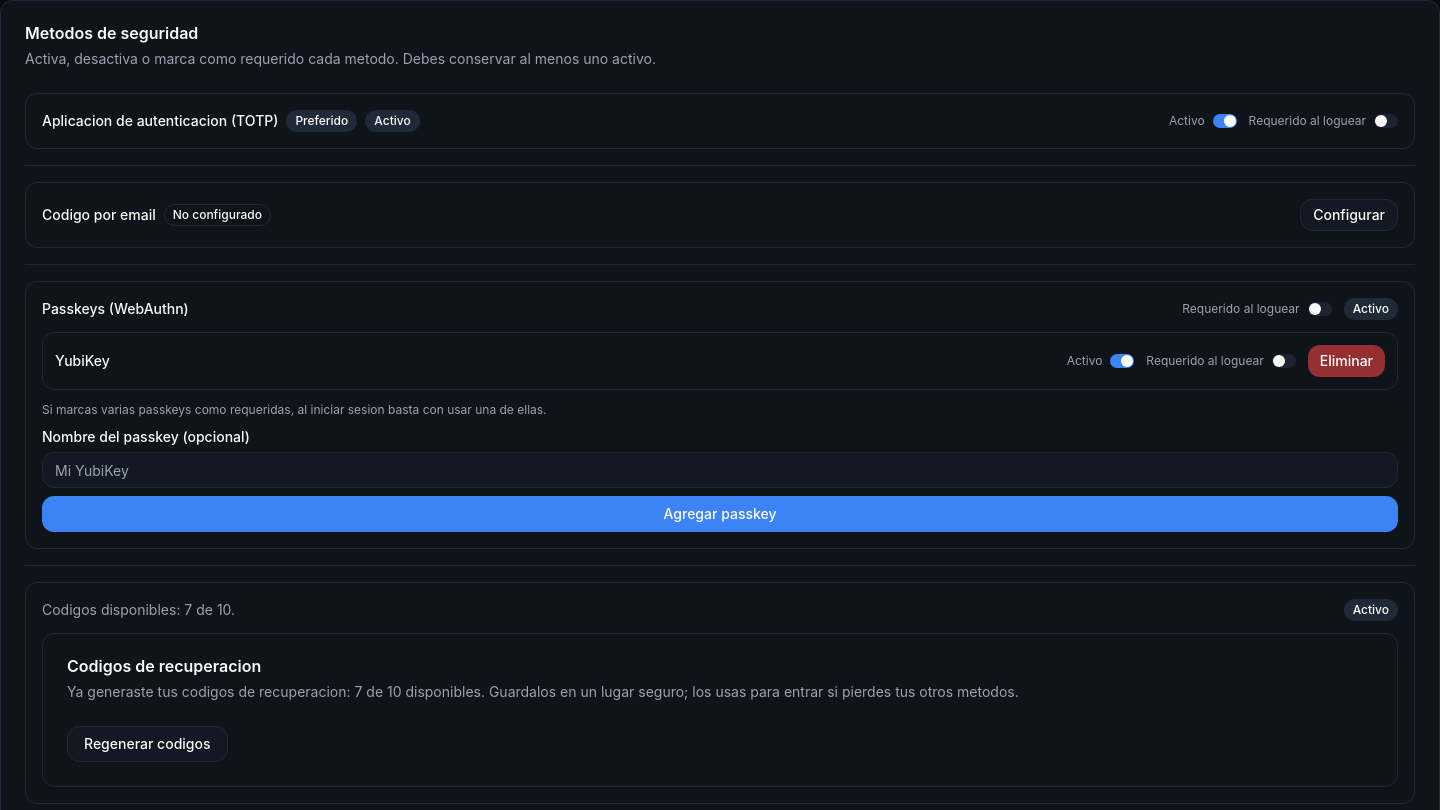
it: SecurityOverviewPanel › Given email_code no configurado When clic Configurar Then abre el dialog de setup
Click the button "Configurar" at {"x": 1349, "y": 215}, box [1300,199,1398,231]
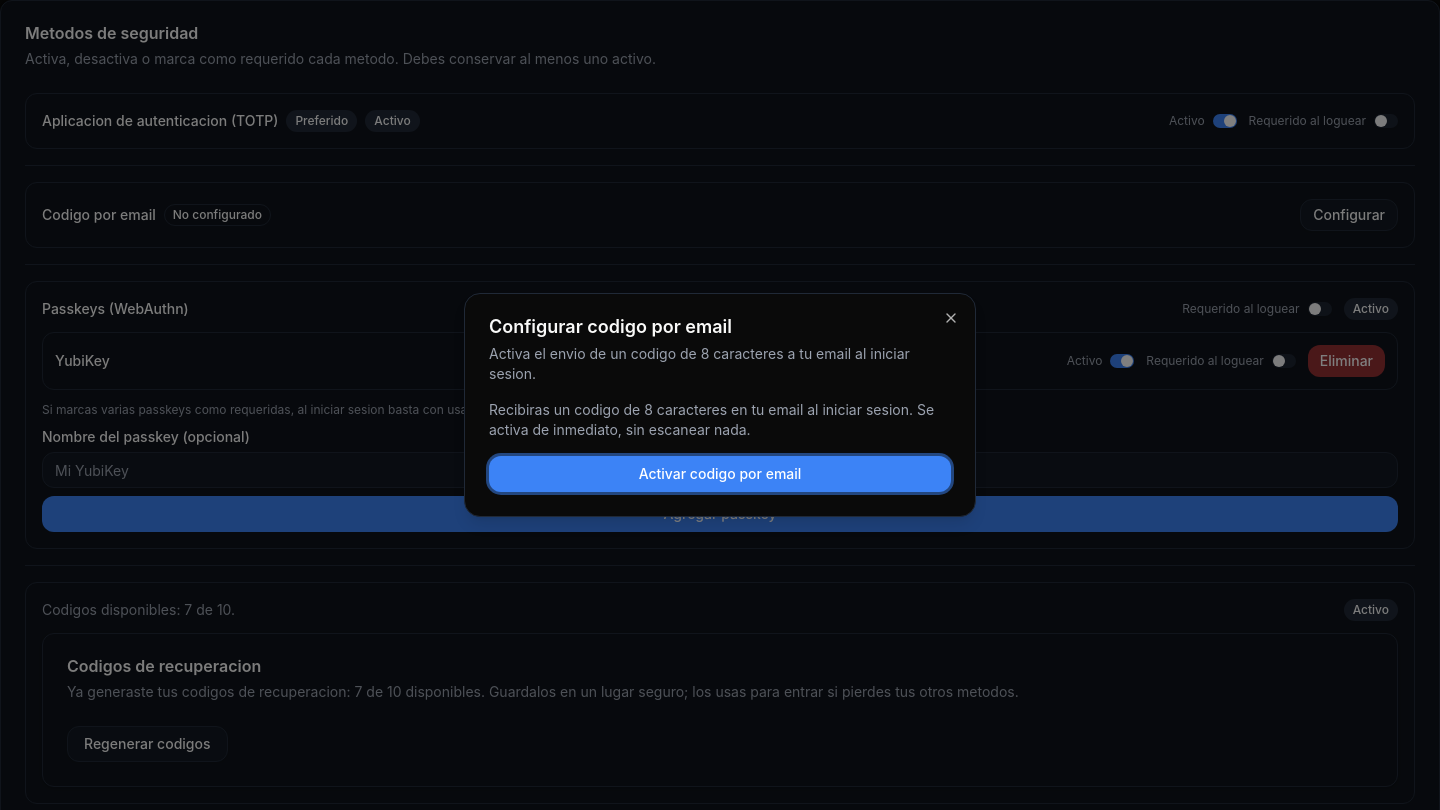
Result: the button "Activar codigo por email" is shown
Click the button "Activar codigo por email" at {"x": 720, "y": 474}, box [489,456,951,492]
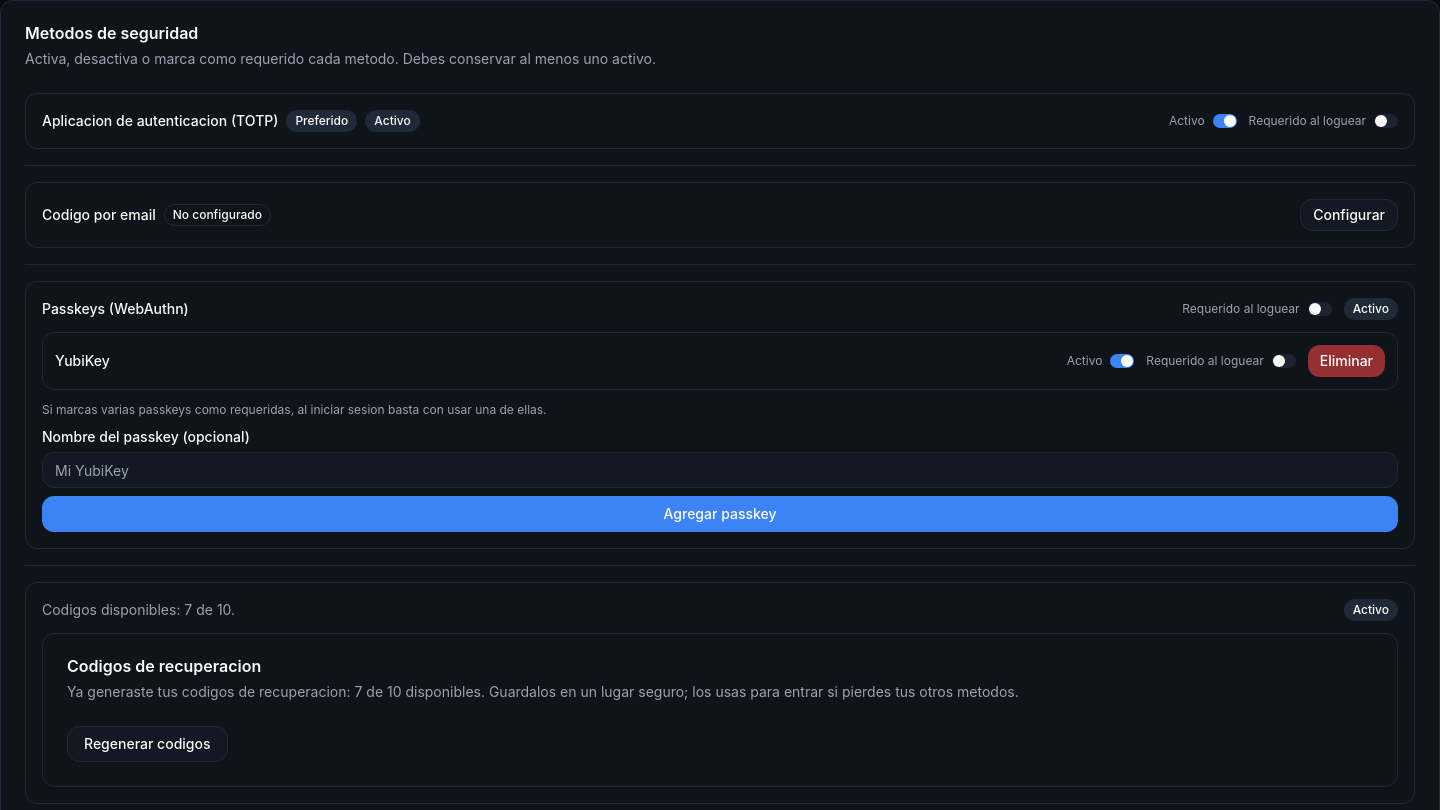
Result: the button "Activar codigo por email" is gone
